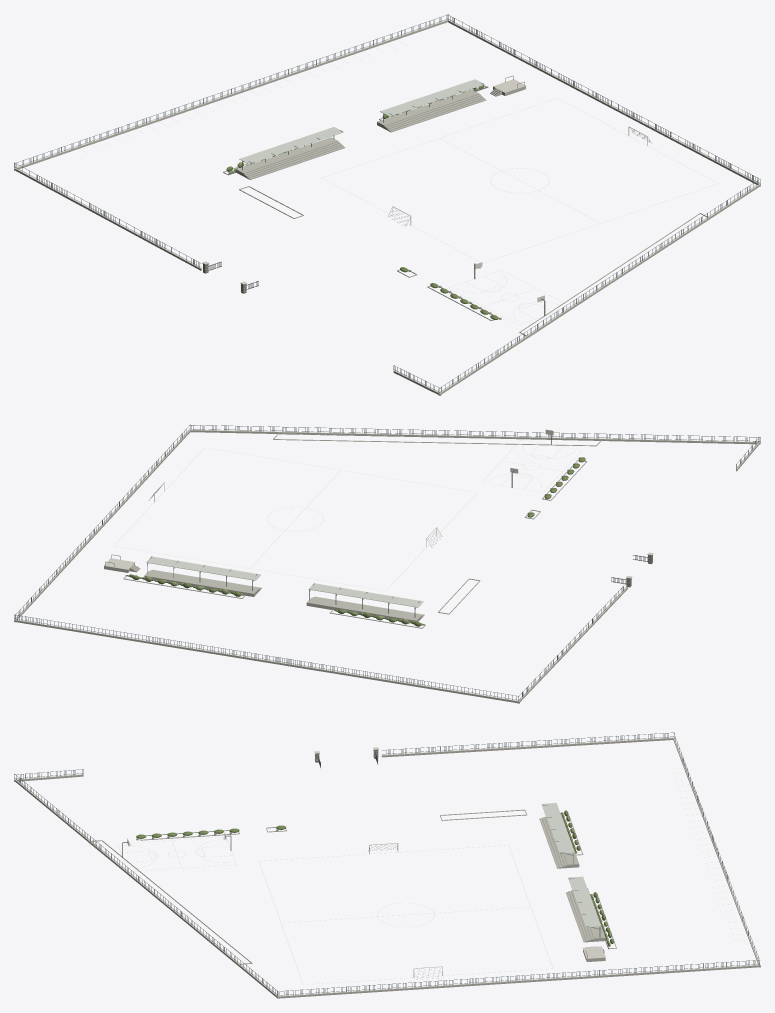
3 views of the same model, one above another, from view 1: azimuth 30°, elevation 25°; view 2: azimuth 150°, elevation 25°; view 3: azimuth 270°, elevation 25° (orthographic). The views are drawn at different scales.
Visible parts, largest first — view 1: prop_boundary-fence, prop_open-stand-canopies, prop_flowerbeds, prop_stand-landings, prop_open-stand, prop_open-stand-east, prop_field-lines; view 2: prop_boundary-fence, prop_flowerbeds, prop_open-stand-canopies, prop_stand-landings, prop_field-lines; view 3: prop_boundary-fence, prop_flowerbeds, prop_open-stand-canopies, prop_field-lines, prop_open-stand, prop_open-stand-east.
Part boxes in pixels (x1,y1,x2,y2): prop_boundary-fence: [14, 14, 760, 395]; prop_open-stand-canopies: [239, 79, 484, 170]; prop_flowerbeds: [223, 85, 708, 337]; prop_stand-landings: [236, 89, 477, 175]; prop_open-stand: [242, 140, 345, 179]; prop_open-stand-east: [382, 93, 485, 132]; prop_field-lines: [321, 98, 718, 263]; prop_boundary-fence: [14, 424, 760, 703]; prop_flowerbeds: [123, 433, 601, 628]; prop_open-stand-canopies: [146, 556, 423, 617]; prop_stand-landings: [144, 572, 419, 621]; prop_field-lines: [114, 447, 476, 590]; prop_boundary-fence: [14, 732, 760, 998]; prop_flowerbeds: [87, 809, 616, 964]; prop_open-stand-canopies: [541, 803, 600, 937]; prop_field-lines: [259, 845, 552, 984]; prop_open-stand: [539, 816, 570, 868]; prop_open-stand-east: [566, 890, 596, 942].
Size of the model in its own units: 129 by 4.03 by 157.
12 materials, 1 textured.
